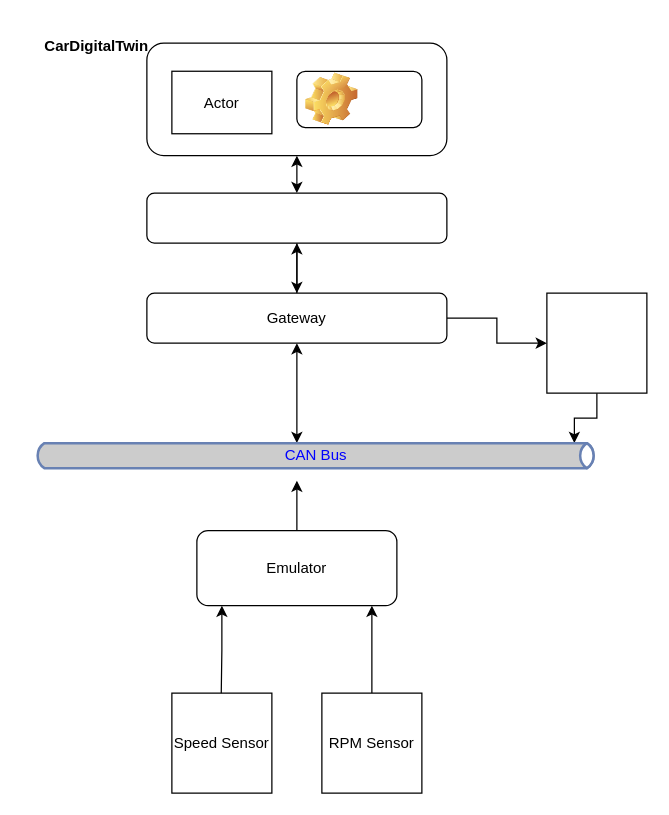
Image size: 669x815. Some labels were removed from this diagram. The centre of each missing label's shape, as x and y in pixels:
Controller: point 296,217
Frontlight Sensor/ Actuator: point 596,342
FSM: point 359,99
